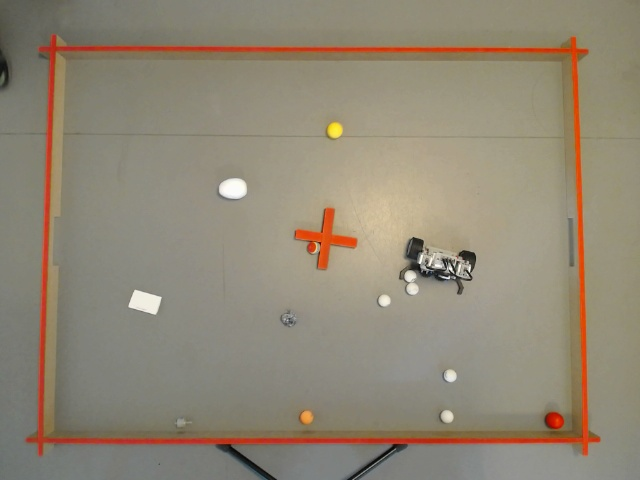big_goal: (52, 216, 60, 264), (567, 218, 572, 266)
cross: (295, 207, 357, 269)
egg: (218, 179, 244, 198)
orange: (302, 411, 312, 423)
robot: (398, 237, 477, 294)
wall: (55, 59, 571, 429)
white: (442, 369, 456, 381), (442, 411, 454, 422), (380, 296, 388, 305), (408, 285, 416, 293), (408, 270, 415, 279)
